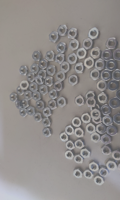nut: (102, 49, 115, 62), (106, 38, 119, 50), (88, 28, 101, 40), (90, 47, 102, 60), (100, 69, 112, 82), (106, 60, 118, 72), (84, 57, 95, 69), (68, 74, 79, 86), (86, 96, 97, 108), (101, 135, 113, 146), (89, 161, 100, 173), (73, 168, 84, 180), (83, 38, 93, 51), (90, 69, 100, 82), (75, 96, 86, 107), (68, 28, 79, 39), (91, 109, 102, 120), (67, 54, 78, 65), (106, 160, 117, 171), (101, 145, 112, 156), (59, 132, 70, 143), (47, 65, 58, 76), (19, 80, 30, 91), (77, 48, 87, 60), (95, 59, 105, 71), (109, 80, 119, 92), (58, 25, 68, 37), (103, 115, 113, 127), (82, 113, 92, 125), (72, 116, 82, 128), (106, 126, 118, 136), (99, 167, 109, 179), (94, 175, 104, 187), (84, 169, 94, 181), (57, 96, 67, 108), (74, 63, 84, 74), (99, 93, 109, 104), (69, 40, 79, 51), (81, 149, 92, 159), (65, 125, 75, 136), (49, 32, 59, 43), (32, 51, 43, 61), (61, 62, 71, 73), (54, 81, 64, 92), (48, 99, 58, 110), (36, 100, 46, 111), (39, 85, 49, 96), (30, 64, 40, 75), (75, 127, 84, 139), (56, 53, 65, 65), (57, 71, 66, 83), (112, 149, 120, 162), (97, 81, 107, 91), (91, 133, 101, 143), (75, 140, 85, 150), (86, 124, 96, 134), (57, 42, 67, 52), (39, 59, 49, 69), (43, 128, 53, 138), (43, 118, 53, 128), (111, 98, 120, 109), (102, 104, 111, 115), (75, 154, 84, 165), (46, 51, 55, 62), (9, 93, 18, 104), (38, 70, 47, 81), (87, 92, 96, 102), (92, 103, 101, 113), (93, 115, 102, 125), (34, 112, 43, 122), (32, 91, 41, 101), (29, 83, 38, 93), (49, 90, 58, 100), (15, 86, 25, 95), (27, 106, 35, 117), (20, 65, 28, 76), (65, 152, 74, 161), (21, 100, 30, 109), (45, 78, 54, 87), (43, 108, 51, 118), (114, 49, 120, 62), (113, 69, 120, 80), (114, 113, 120, 125), (19, 109, 27, 118), (24, 91, 32, 99), (66, 142, 73, 151), (97, 126, 106, 133), (27, 75, 36, 82), (36, 78, 44, 85), (116, 89, 120, 100), (118, 162, 120, 174)
